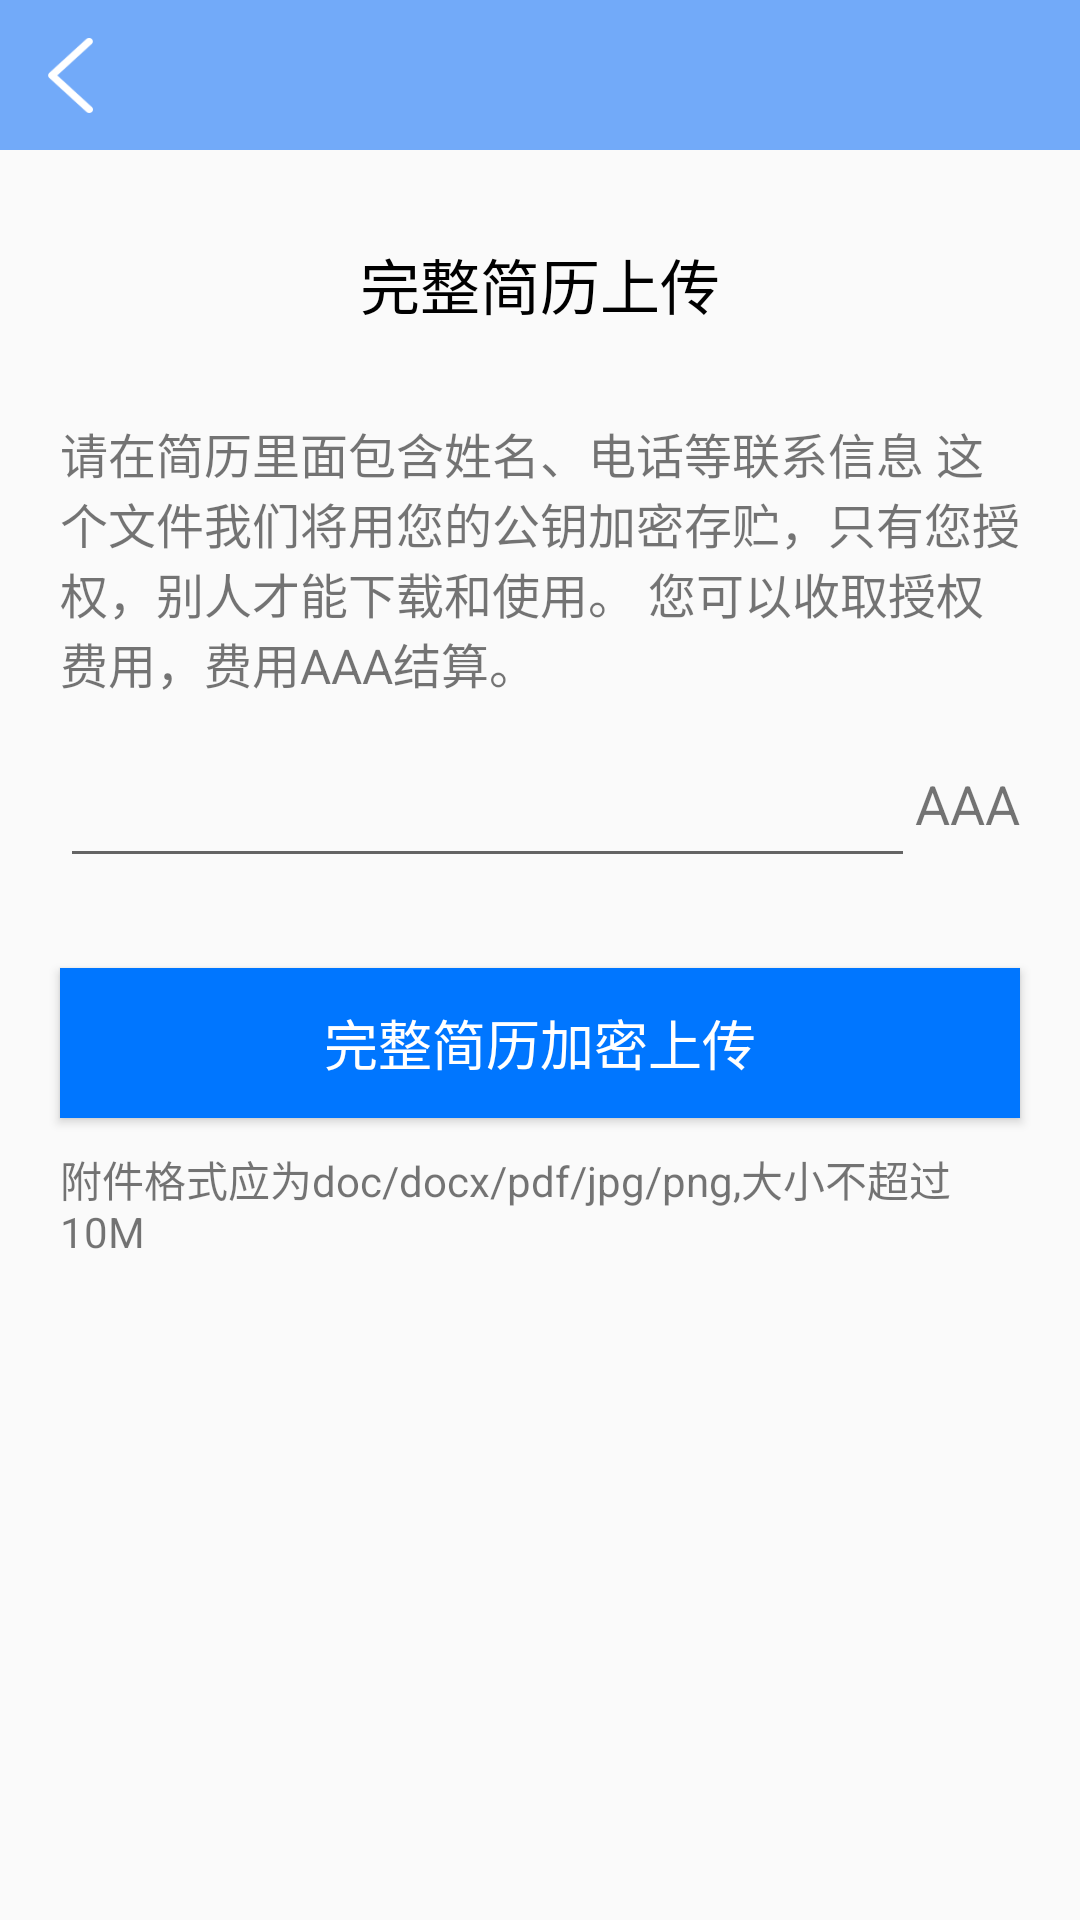

Screen size 1080w x 1920h. Icon name, then its center in pixels as (x,y):
back: (70,75)
